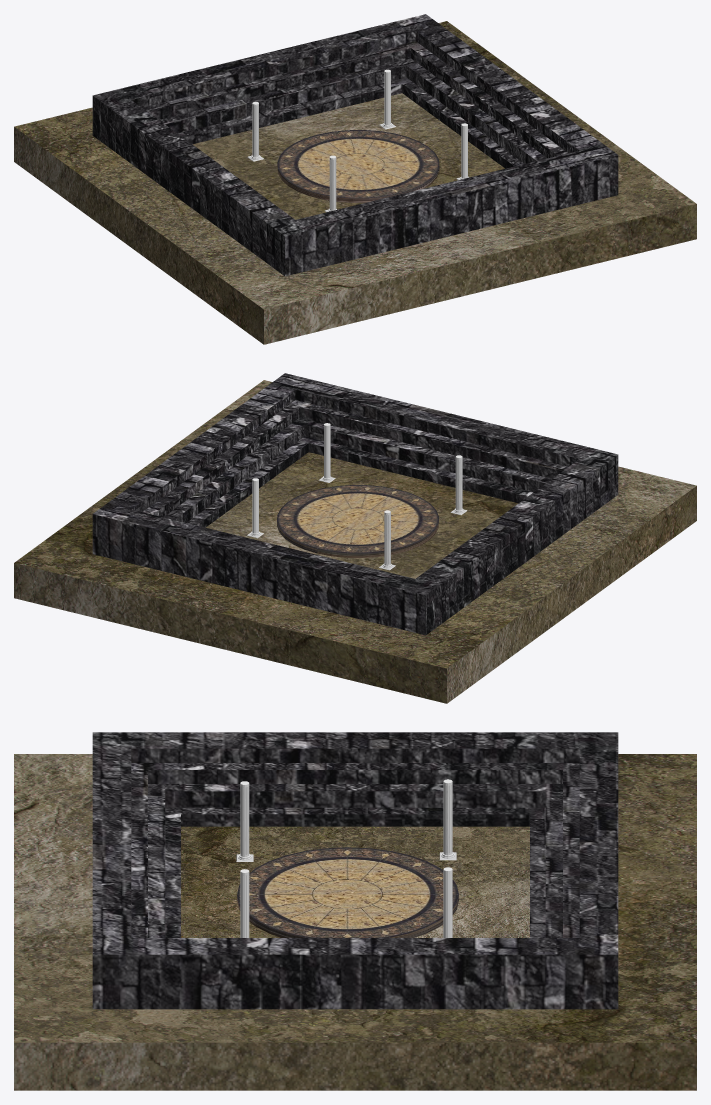
Rendered from arenas.fbx.
3 renders of one model, top to bottom at view 1: azimuth 30°, elevation 25°; view 2: azimuth 150°, elevation 25°; view 3: azimuth 270°, elevation 25°, orthographic. The views are drawn at different scales.
Visible parts, largest first — view 1: PolyMesh3D_1, Cylinder; view 2: PolyMesh3D_1, Cylinder; view 3: PolyMesh3D_1, Cylinder, Circle, Circle.001, Circle.002, Circle.003.
Part boxes in pixels (<box>): PolyMesh3D_1: <box>14,14,696,344</box>; Cylinder: <box>277,130,439,202</box>; PolyMesh3D_1: <box>14,373,696,703</box>; Cylinder: <box>277,485,438,557</box>; PolyMesh3D_1: <box>14,732,696,1090</box>; Cylinder: <box>237,847,458,937</box>; Circle: <box>441,779,454,858</box>; Circle.001: <box>238,781,251,860</box>; Circle.002: <box>443,867,452,937</box>; Circle.003: <box>240,869,249,937</box>.
Size of the model in its own units: 41219 by 8063 by 41219.
